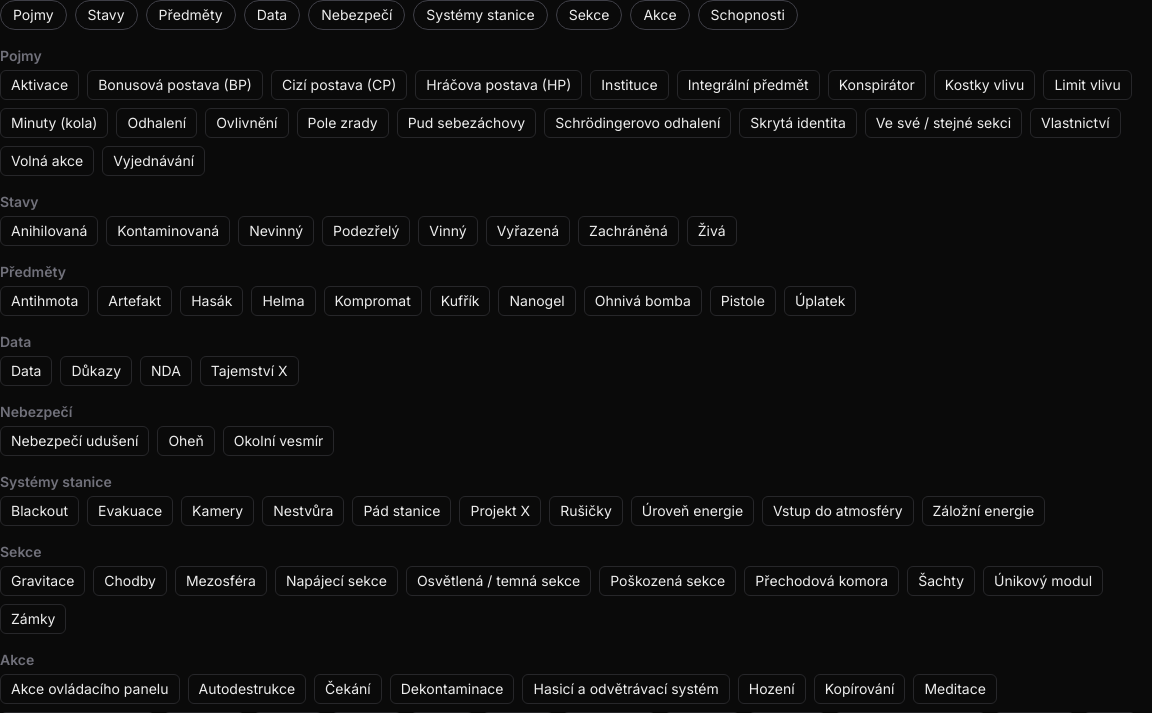
Test: Glossary + TermSheet › lists characters who start with the item (reverse lookup)
Click the button "Pistole" at coordinates (743, 301), box [710,286,776,316]
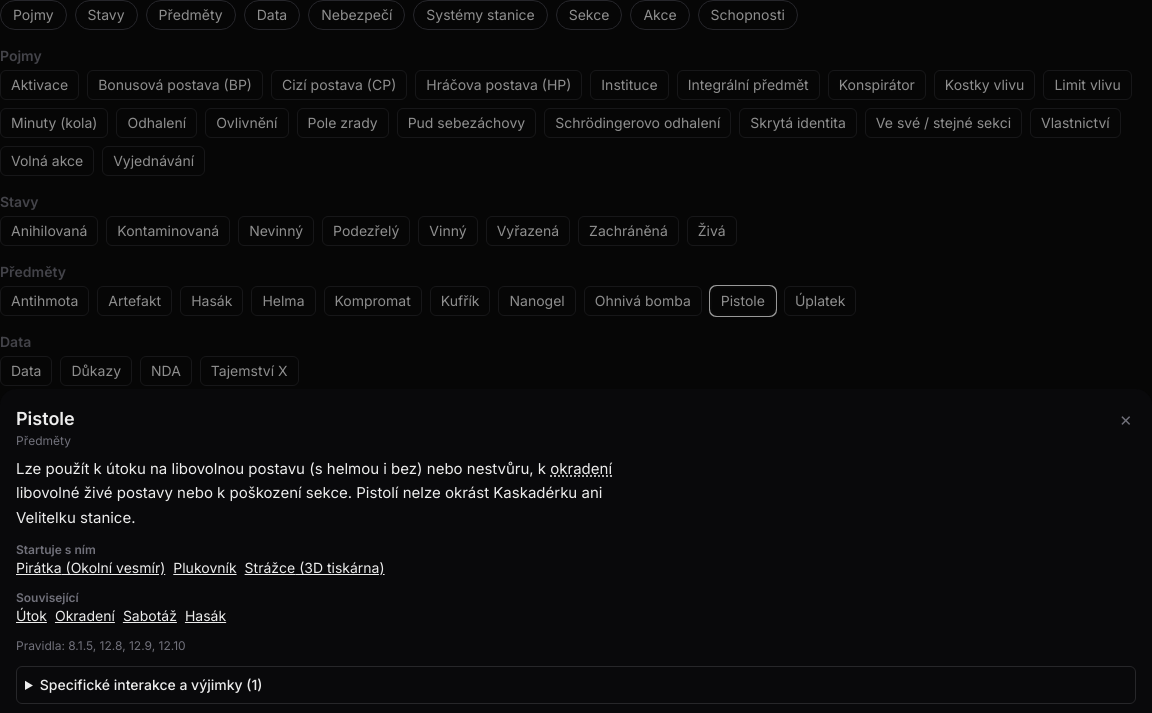
Expected: the text "Startuje s ním" is shown, [16,542,96,557]
Expected: the link "Pirátka (Okolní vesmír)" is shown, [16,558,165,578]
Expected: the link "Strážce (3D tiskárna)" is shown, [245,558,385,578]
